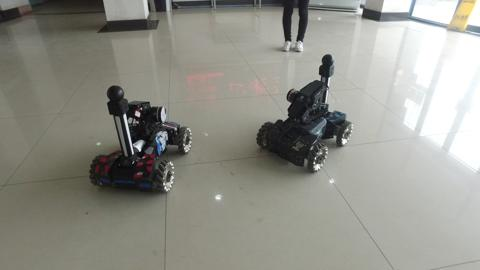chariot: (253, 53, 357, 177), (88, 83, 192, 196)
